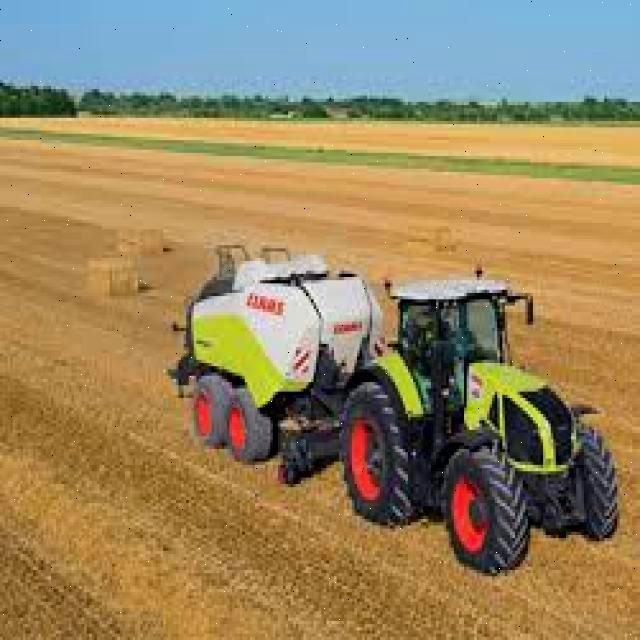Tratores - v5 YOLO V8L 2024-11-13: (340, 277, 620, 574)
